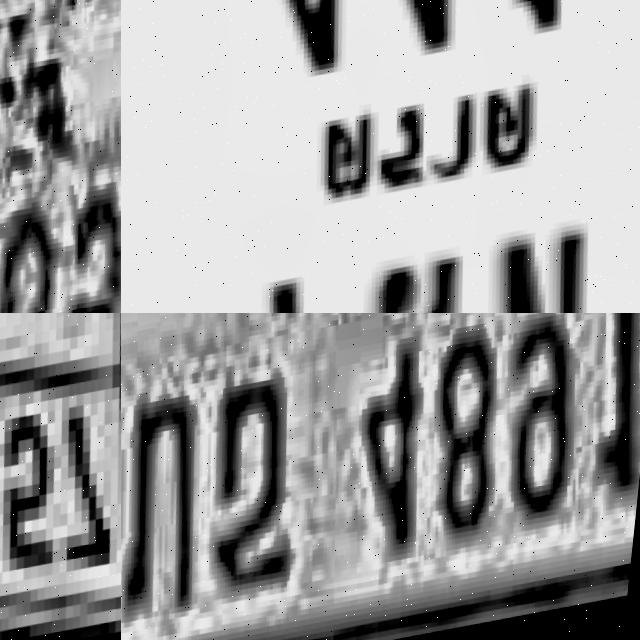license-plate: (121, 313, 640, 640), (121, 0, 640, 313), (0, 313, 121, 640), (0, 0, 121, 313)
